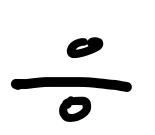div: (11, 37, 132, 122)
